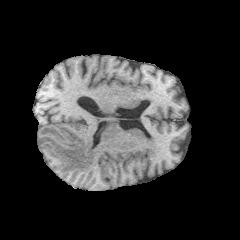glioma: (40, 128, 96, 172)
